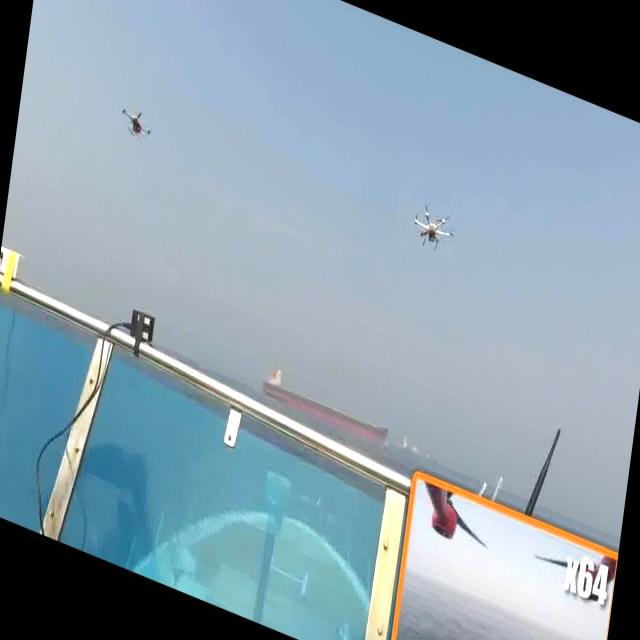drone: (407, 191, 459, 262), (112, 90, 154, 146)
